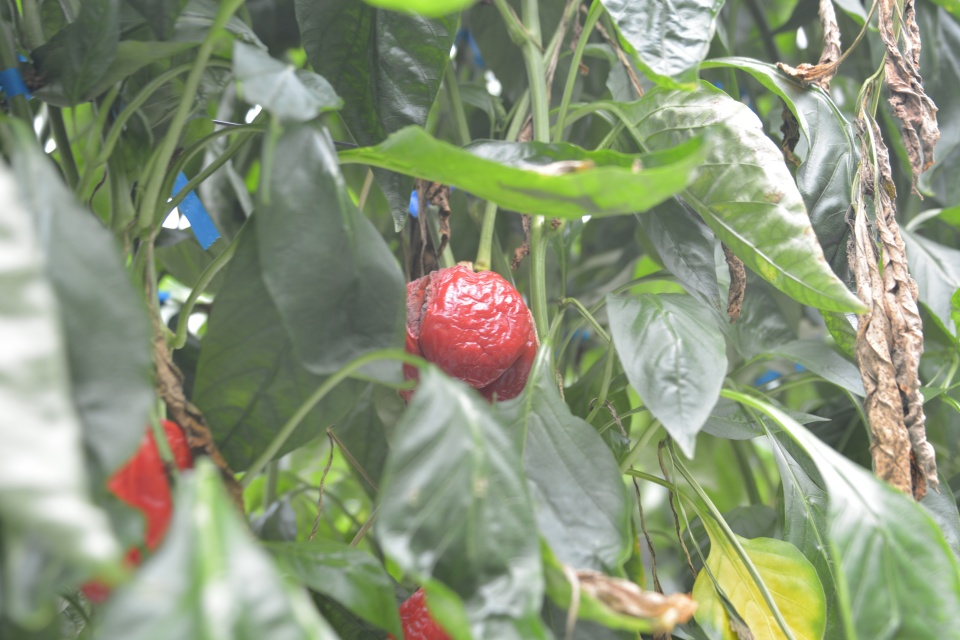fruit: (79, 416, 196, 607), (397, 263, 540, 404), (383, 582, 456, 640)
